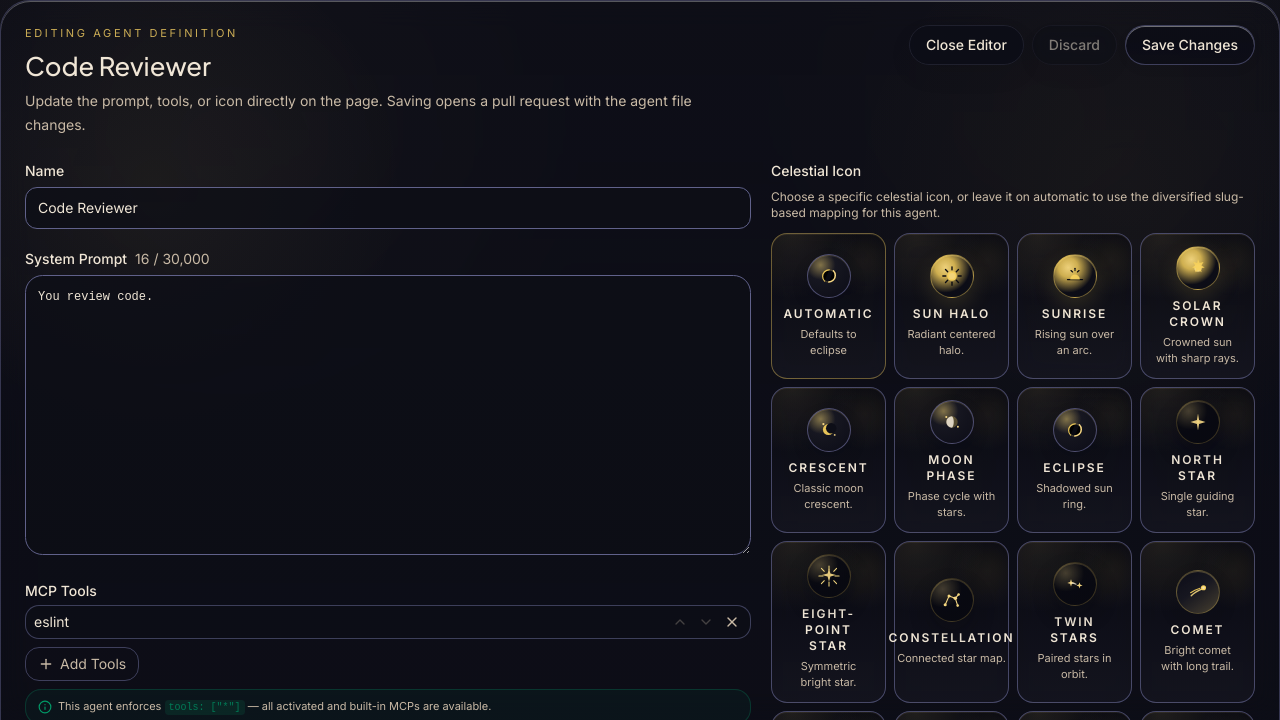
Scenario: AgentInlineEditor › shows validation error when saving with empty system prompt
Clear the text box labelled "System Prompt16 / 30,000" at (388, 416), box [25,276,751,556]
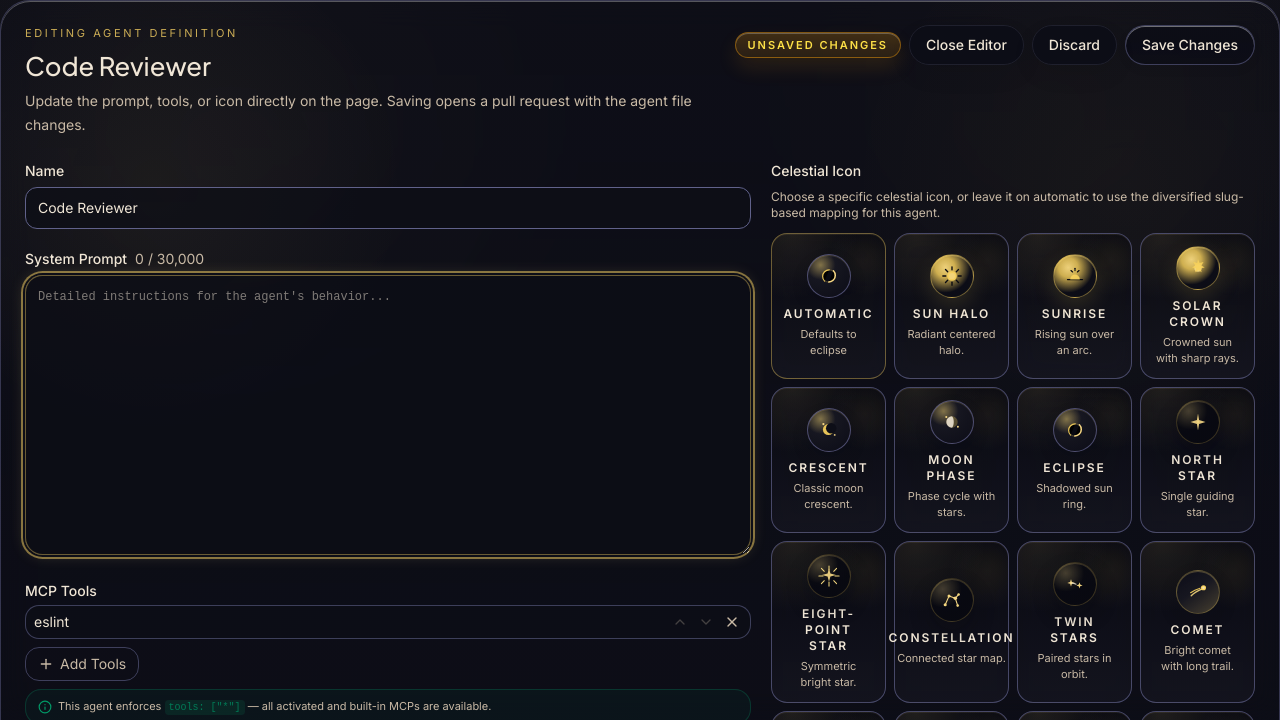
Click the button "Save Changes" at (1190, 45), box [1125,25,1255,65]
(page scrolled)
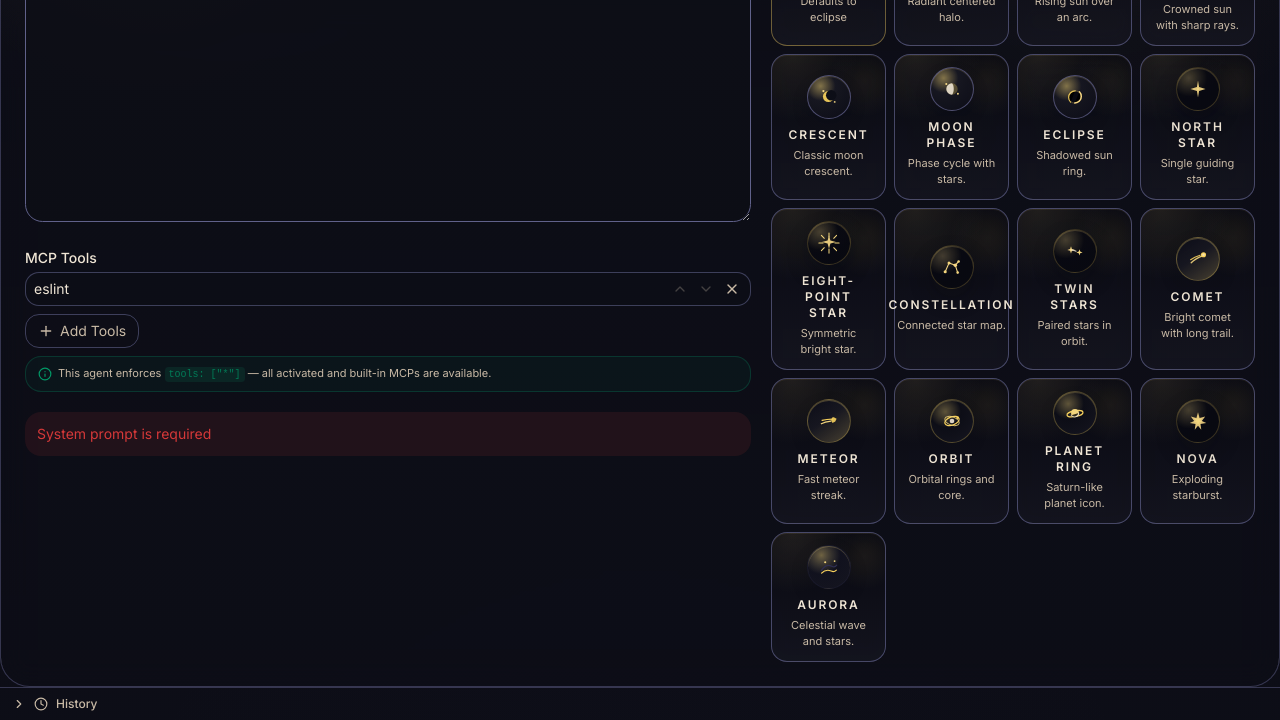
Expected: the text "System prompt is required" is shown, [25,412,751,456]
